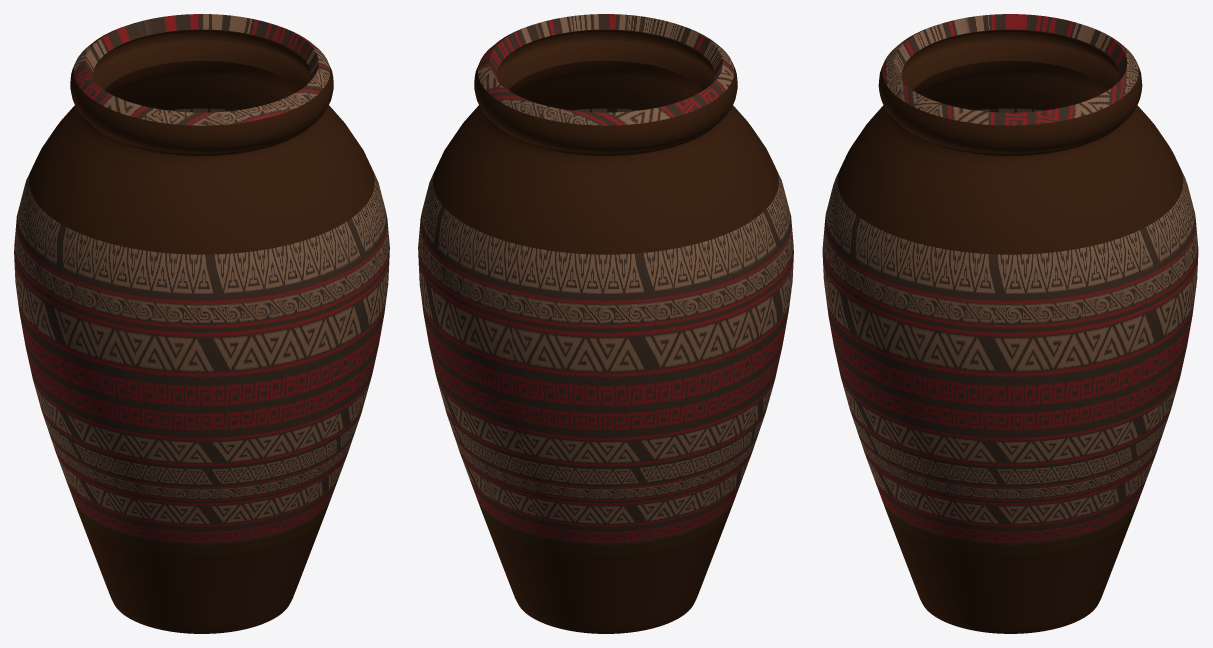
The model's file is vaso3.gltf.
3 renders of one model, left to right at view 1: azimuth 30°, elevation 25°; view 2: azimuth 150°, elevation 25°; view 3: azimuth 270°, elevation 25°, orthographic.
Visible parts, largest first — view 1: Cylinder.001, Cylinder.004, Cylinder.002, Cylinder.003; view 2: Cylinder.001, Cylinder.004, Cylinder.002, Cylinder.003; view 3: Cylinder.001, Cylinder.004, Cylinder.002, Cylinder.003.
Boxes of the visible parts, x1=… form: Cylinder.001: x1=14, y1=14, x2=389, y2=545; Cylinder.004: x1=29, y1=29, x2=374, y2=254; Cylinder.002: x1=78, y1=512, x2=325, y2=633; Cylinder.003: x1=73, y1=499, x2=330, y2=554; Cylinder.001: x1=418, y1=14, x2=793, y2=545; Cylinder.004: x1=433, y1=29, x2=778, y2=254; Cylinder.002: x1=482, y1=512, x2=729, y2=633; Cylinder.003: x1=477, y1=499, x2=734, y2=554; Cylinder.001: x1=822, y1=14, x2=1198, y2=545; Cylinder.004: x1=837, y1=29, x2=1183, y2=254; Cylinder.002: x1=887, y1=513, x2=1133, y2=633; Cylinder.003: x1=882, y1=501, x2=1138, y2=554.
Size of the model in its own units: 0.5109 by 0.8014 by 0.5109.
4 materials, 1 textured.
